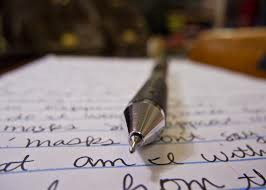pen: (119, 31, 173, 151)
